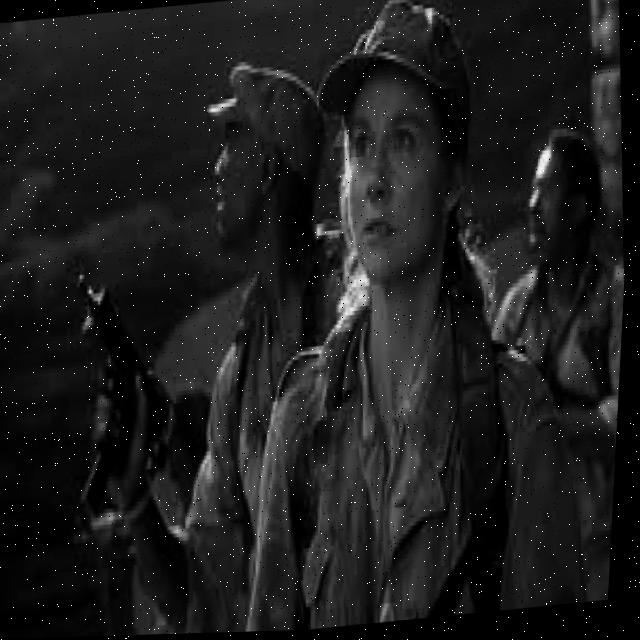firearm: (68, 267, 183, 510)
